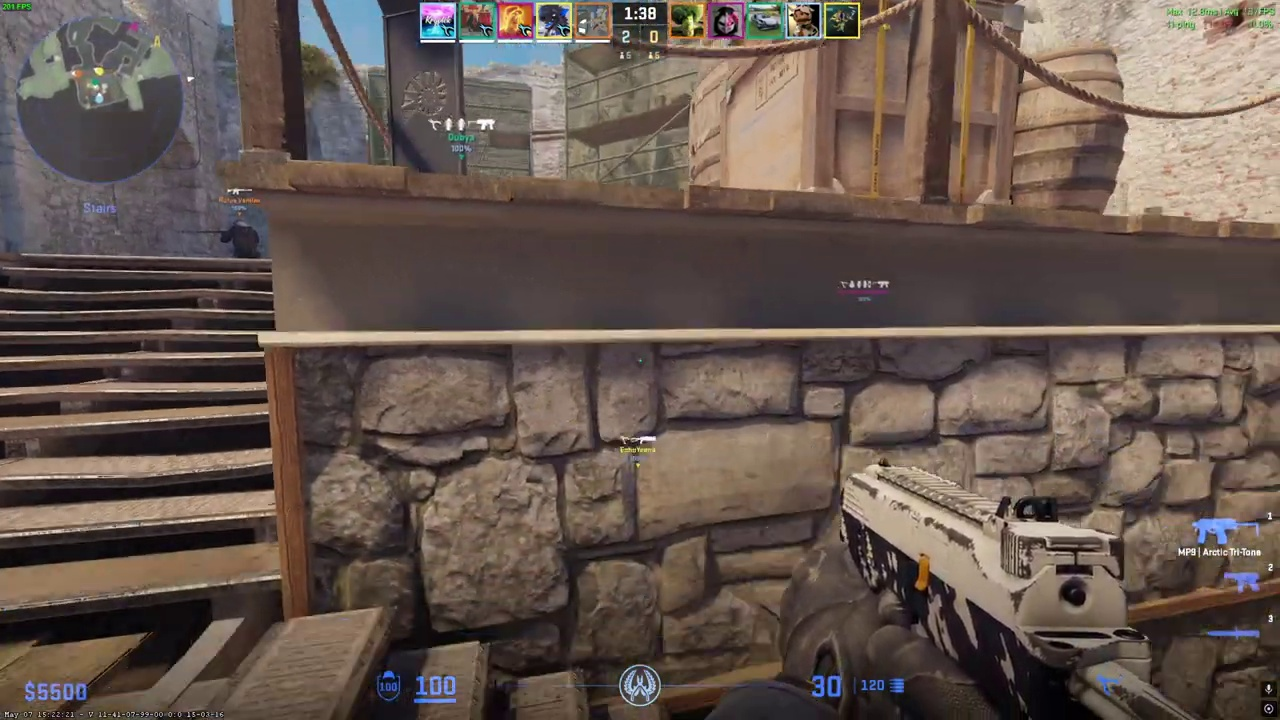CT: (225, 219, 259, 259)
